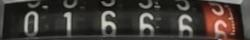digits: (208, 0, 232, 40), (99, 8, 118, 38), (176, 13, 196, 38), (138, 11, 155, 37), (62, 9, 76, 40), (22, 11, 38, 34)
